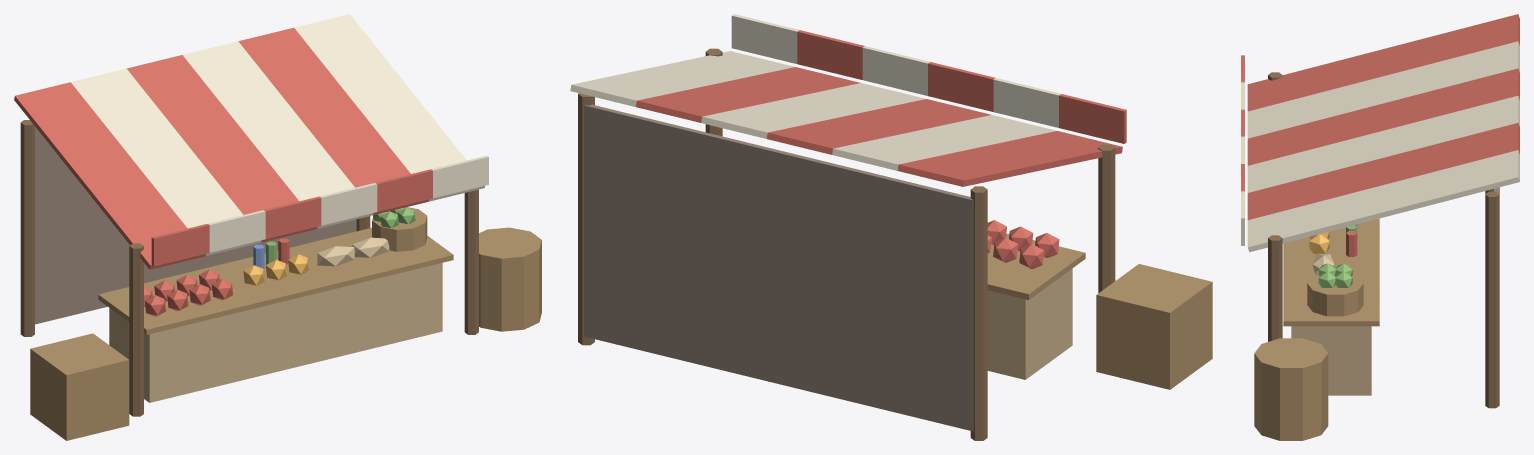
The model's file is MarketStall.glb.
The picture shows the model from 3 angles, left to right: view 1: azimuth 30°, elevation 25°; view 2: azimuth 150°, elevation 25°; view 3: azimuth 270°, elevation 25°; orthographic projection. The views are drawn at different scales.
Parts seen in each view (by area): view 1: MarketStall_Counter, MarketStall_BackCloth, MarketStall_Awning, MarketStall_Top, MarketStall_Awning.001, MarketStall_Awning.004, MarketStall_Awning.003, MarketStall_Awning.002, MarketStall_Awning.005, MarketStall_Crate, MarketStall_Barrel, MarketStall_PostB (+11 smaller); view 2: MarketStall_BackCloth, MarketStall_Crate, MarketStall_Counter, MarketStall_Awning, MarketStall_Awning.002, MarketStall_Awning.004, MarketStall_Awning.003, MarketStall_Awning.001, MarketStall_Awning.005, MarketStall_PostB, MarketStall_Top, MarketStall_PostF (+7 smaller); view 3: MarketStall_Awning.005, MarketStall_Awning.001, MarketStall_Awning.004, MarketStall_Awning.002, MarketStall_Awning.003, MarketStall_Awning, MarketStall_Barrel, MarketStall_Top, MarketStall_Counter, MarketStall_PostB.001, MarketStall_Basket, MarketStall_PostF.001 (+2 smaller).
Boxes of the visible parts, x1,y1,x2,y2 form: MarketStall_Counter: (109, 263, 442, 402); MarketStall_BackCloth: (35, 126, 356, 324); MarketStall_Awning: (14, 82, 205, 269); MarketStall_Top: (98, 227, 453, 334); MarketStall_Awning.001: (71, 68, 261, 255); MarketStall_Awning.004: (238, 27, 429, 215); MarketStall_Awning.003: (183, 41, 373, 228); MarketStall_Awning.002: (127, 55, 317, 242); MarketStall_Awning.005: (294, 14, 484, 201); MarketStall_Crate: (30, 333, 129, 440); MarketStall_Barrel: (479, 227, 541, 331); MarketStall_PostB: (20, 120, 34, 336); MarketStall_BackCloth: (584, 104, 973, 431); MarketStall_Crate: (1096, 264, 1212, 389); MarketStall_Counter: (987, 268, 1072, 379); MarketStall_Awning: (897, 131, 1122, 186); MarketStall_Awning.002: (766, 99, 991, 154); MarketStall_Awning.004: (636, 67, 860, 122); MarketStall_Awning.003: (701, 83, 925, 138); MarketStall_Awning.001: (832, 115, 1056, 170); MarketStall_Awning.005: (570, 51, 794, 106); MarketStall_PostB: (970, 186, 987, 440); MarketStall_Top: (987, 233, 1085, 300); MarketStall_PostF: (1098, 144, 1115, 293); MarketStall_Awning.005: (1247, 150, 1519, 252); MarketStall_Awning.001: (1247, 41, 1519, 138); MarketStall_Awning.004: (1247, 123, 1519, 219); MarketStall_Awning.002: (1247, 68, 1519, 165); MarketStall_Awning.003: (1247, 95, 1519, 192); MarketStall_Awning: (1247, 14, 1519, 111); MarketStall_Barrel: (1254, 338, 1328, 440); MarketStall_Top: (1283, 218, 1379, 326); MarketStall_Counter: (1291, 326, 1371, 395); MarketStall_PostB.001: (1485, 191, 1499, 408); MarketStall_Basket: (1307, 274, 1363, 316); MarketStall_PostF.001: (1268, 235, 1282, 341).
Bounding box in the file's own units: 6.99 × 3.14 × 3.47.
